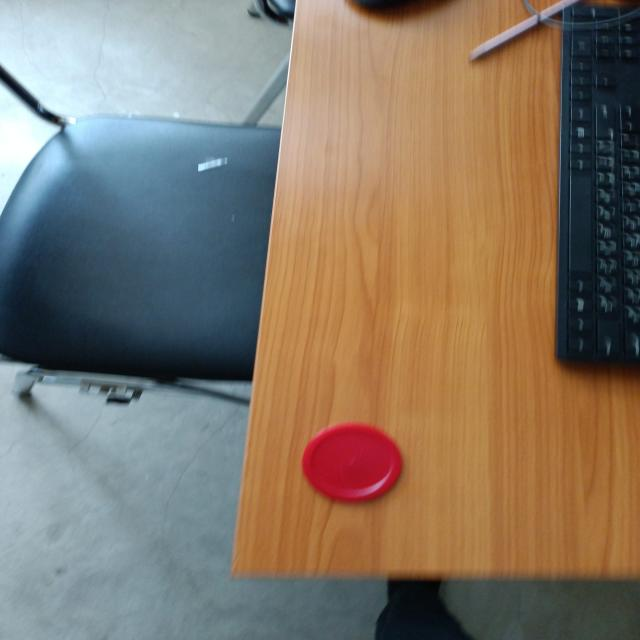chip: (299, 421, 405, 504)
